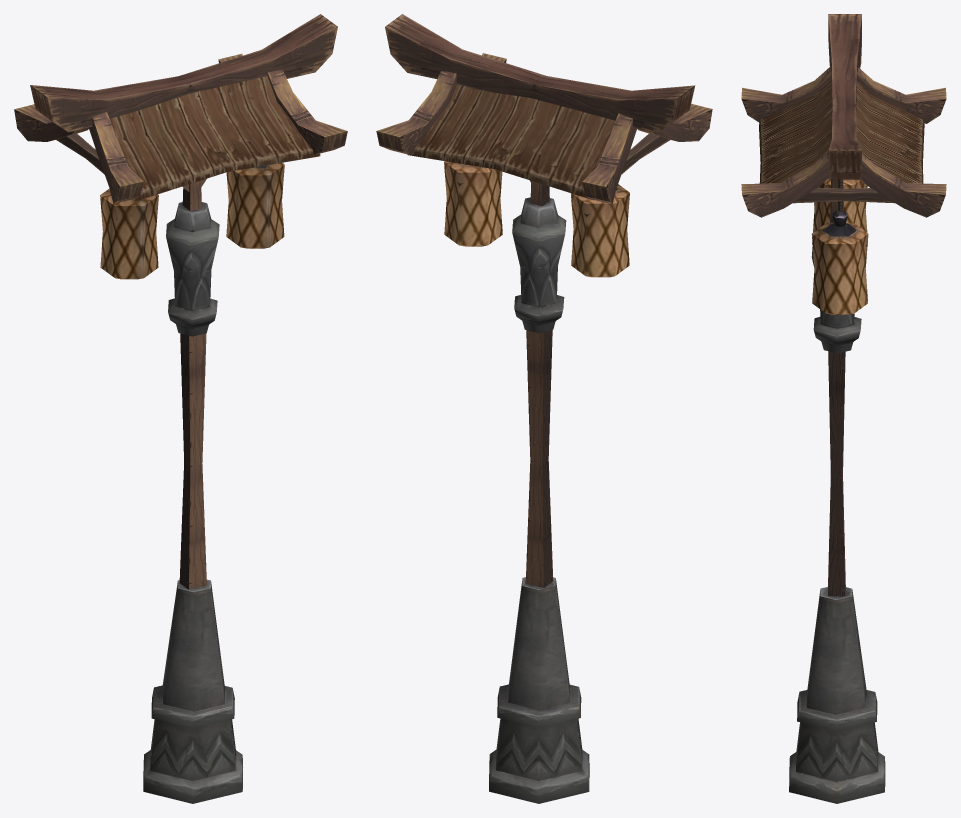
The model's file is ludeng.FBX.
3 views of the same model, side by side, from view 1: azimuth 30°, elevation 25°; view 2: azimuth 150°, elevation 25°; view 3: azimuth 270°, elevation 25° (orthographic). The views are drawn at different scales.
Visible parts, largest first — view 1: ludeng; view 2: ludeng; view 3: ludeng.
Part boxes in pixels (x1,y1,x2,y2): ludeng: (14,14,347,803); ludeng: (376,14,712,803); ludeng: (741,14,946,803).
Size of the model in its own units: 1.9 by 4.52 by 1.21.
